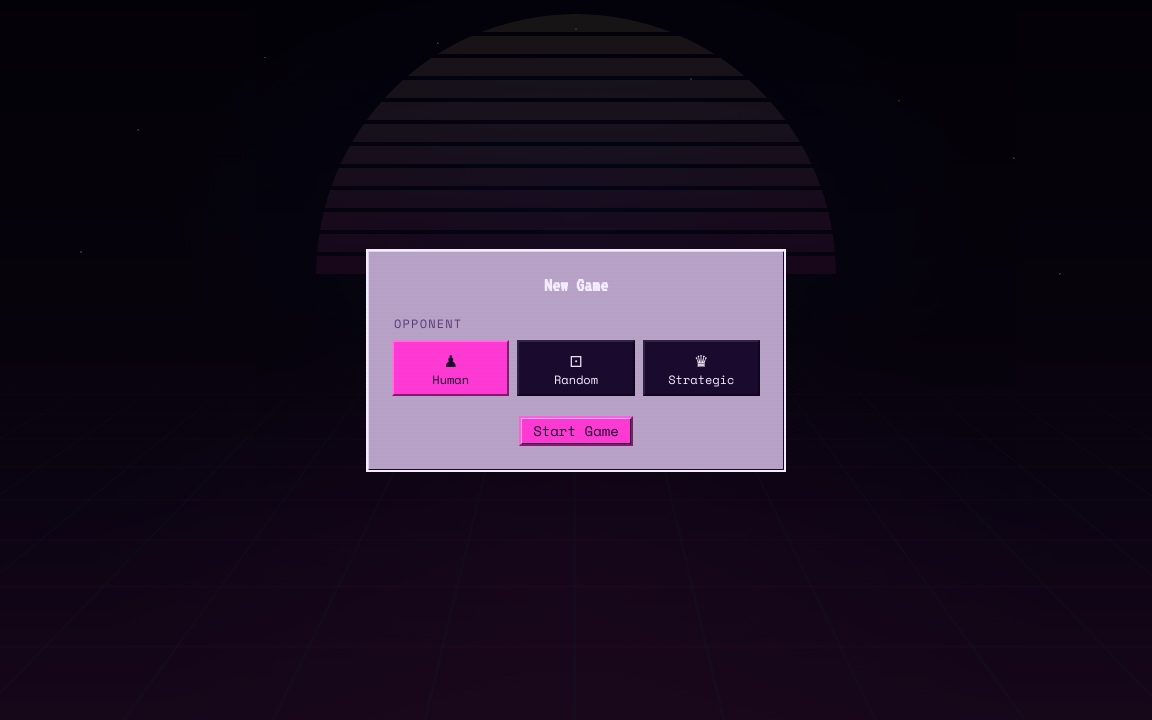
Visual Regression — Settings Modal (US4) › renders the settings modal with Win95 window chrome
Click the button "Start Game" at (576, 430), box x1=519 y1=416 x2=633 y2=446
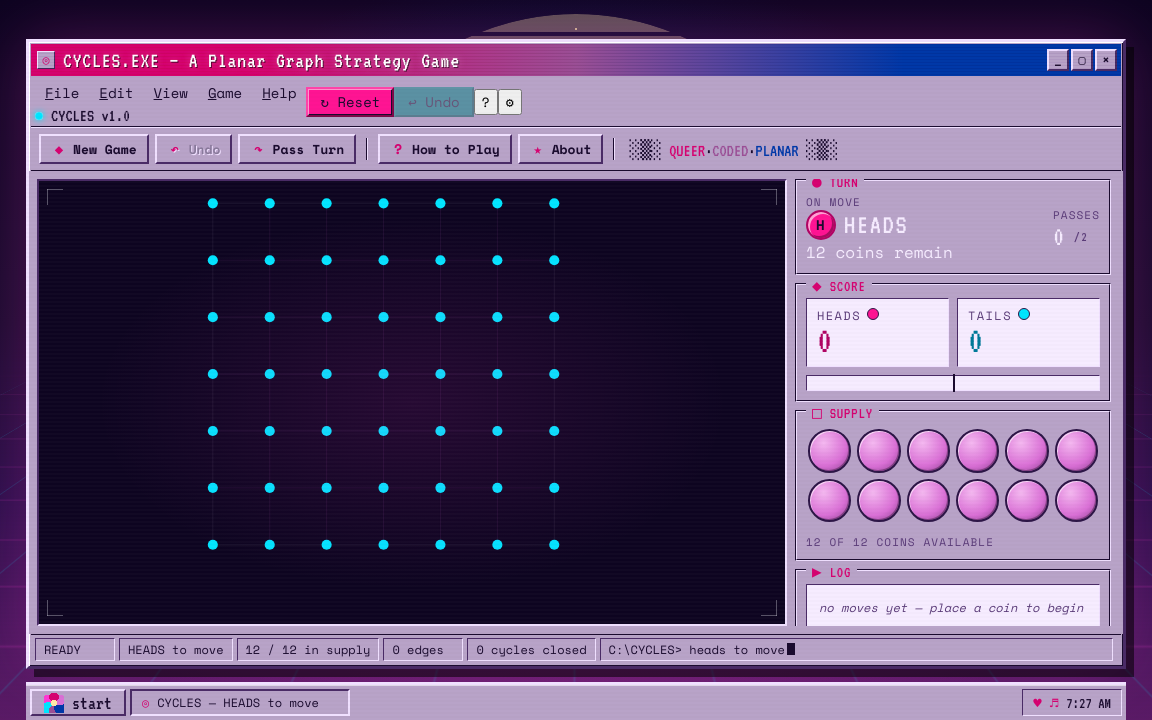
Click the button named "Open settings" at (510, 102), box x1=498 y1=89 x2=522 y2=115
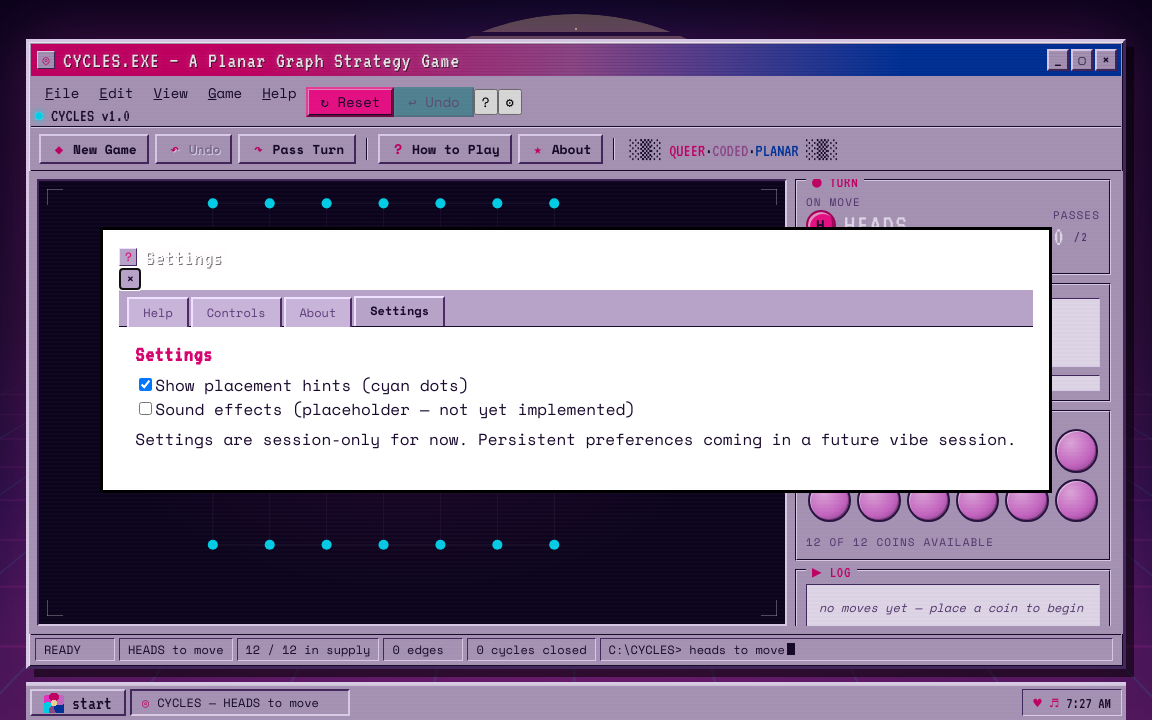
Check: the dialog is shown, box x1=100 y1=227 x2=1052 y2=493
Check: the text with id "modal-title" reads "Settings", box x1=145 y1=246 x2=223 y2=268
